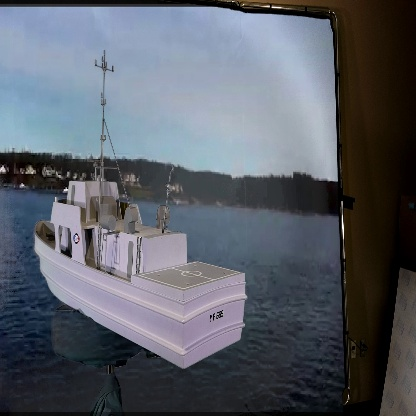YP689: (33, 49, 248, 370)
